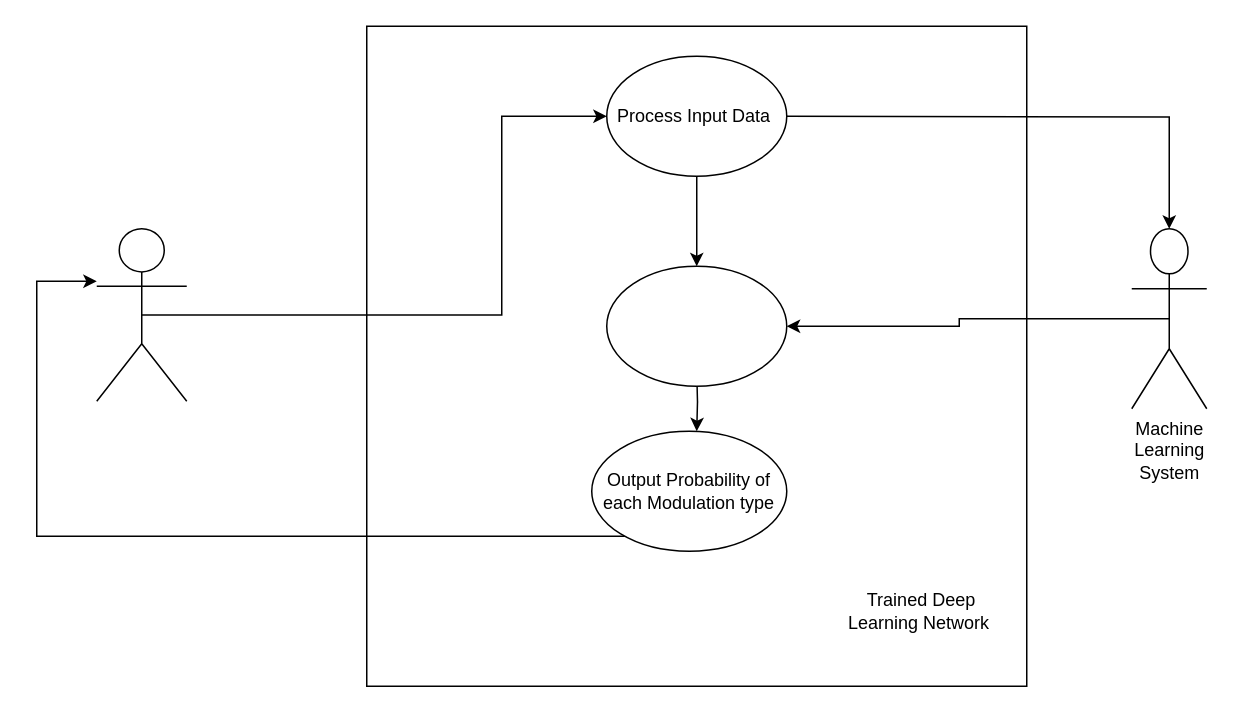
The diagram is 1233 pixels wide and 713 high, and some of its shapes have lost their labels. Each missing label, with the box of its shape:
Calculate Probability: (605, 265, 787, 386)
Radio Reciever/User: (95, 227, 187, 401)
